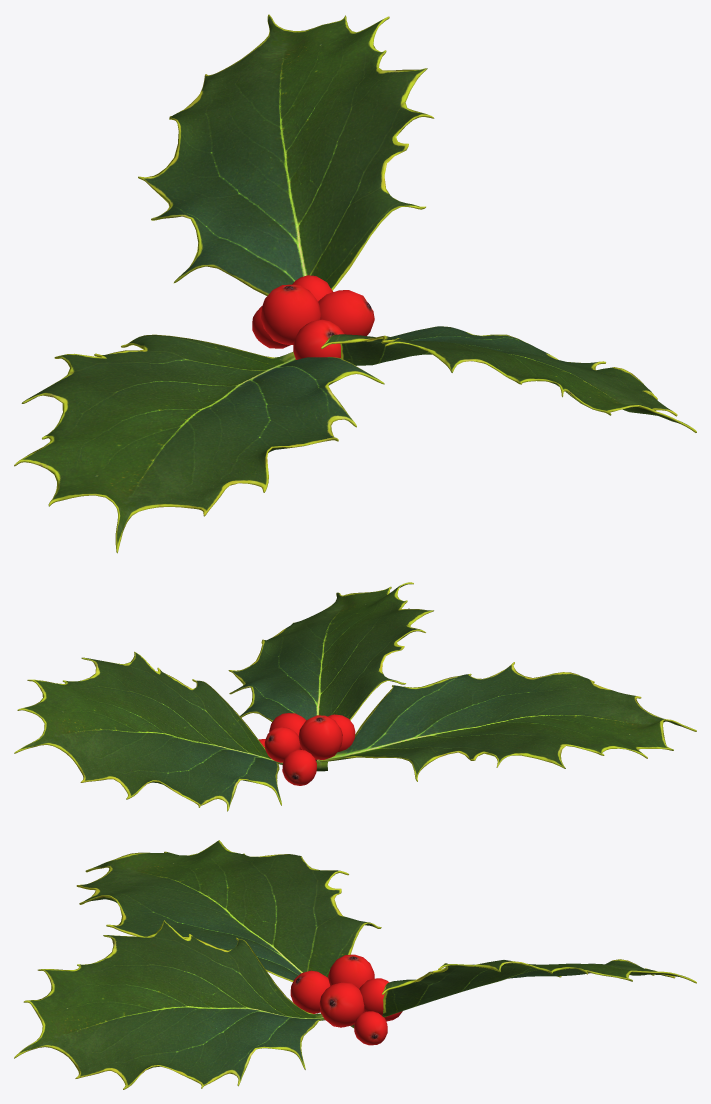
Rendered from holly.fbx.
The picture shows the model from 3 angles, top to bottom: view 1: azimuth 30°, elevation 25°; view 2: azimuth 150°, elevation 25°; view 3: azimuth 270°, elevation 25°; orthographic projection. The views are drawn at different scales.
Visible parts, largest first — view 1: leaf_2, leaf_3, leaf_1, berries; view 2: leaf_2, leaf_3, leaf_1, berries; view 3: leaf_1, leaf_3, berries, leaf_2.
Part boxes in pixels (x1=…): leaf_2: x1=138, y1=14, x2=434, y2=295; leaf_3: x1=14, y1=334, x2=384, y2=553; leaf_1: x1=321, y1=326, x2=696, y2=432; berries: x1=252, y1=275, x2=374, y2=359; leaf_2: x1=14, y1=651, x2=282, y2=811; leaf_3: x1=318, y1=662, x2=696, y2=781; leaf_1: x1=228, y1=582, x2=433, y2=721; berries: x1=259, y1=713, x2=355, y2=785; leaf_1: x1=14, y1=920, x2=325, y2=1089; leaf_3: x1=76, y1=840, x2=381, y2=981; berries: x1=290, y1=954, x2=402, y2=1045; leaf_2: x1=382, y1=959, x2=696, y2=1017.
Bounding box in the file's own units: 3.59 × 1 × 4.42.
